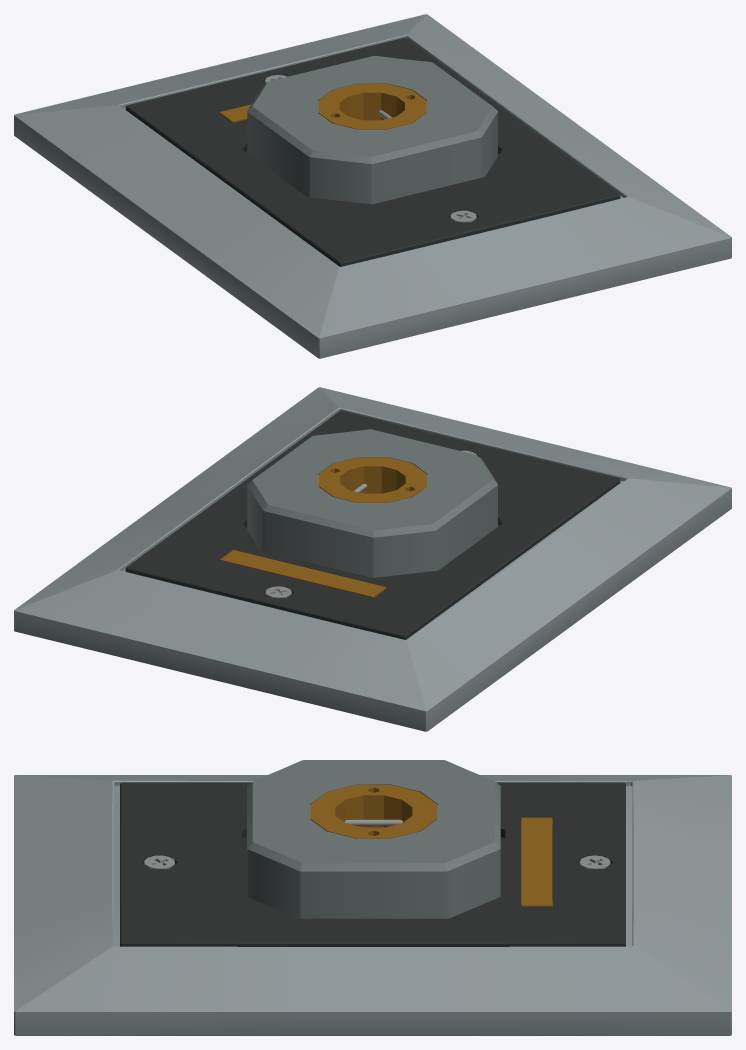
The model's file is CopperGasOutlet.fbx.
The picture shows the model from 3 angles, top to bottom: view 1: azimuth 30°, elevation 25°; view 2: azimuth 150°, elevation 25°; view 3: azimuth 270°, elevation 25°; orthographic projection. The views are drawn at different scales.
Parts seen in each view (by area): view 1: Object057; view 2: Object057; view 3: Object057.
Part boxes in pixels (x1,y1,x2,y2): Object057: (14, 14, 731, 358); Object057: (14, 387, 731, 731); Object057: (14, 760, 731, 1035).
Size of the model in its own units: 9.56 by 2.04 by 12.24.
